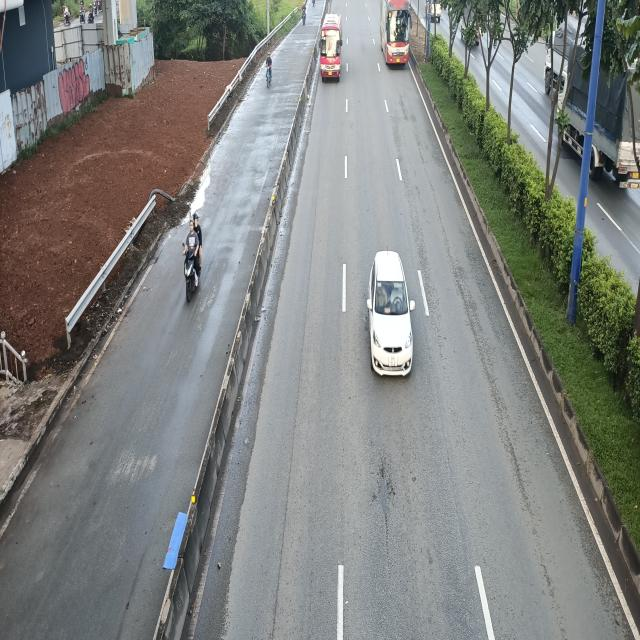car: (368, 249, 416, 376)
coach: (378, 0, 410, 67), (321, 11, 346, 80)
